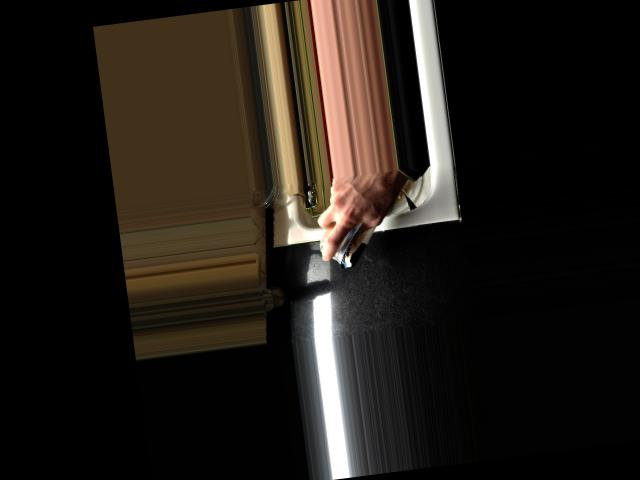cheese: (316, 176, 393, 274)
